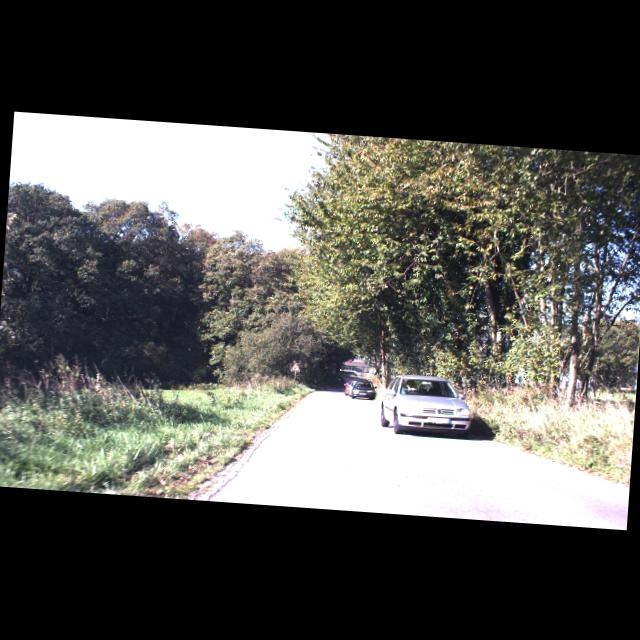danger: (290, 362, 300, 371)
